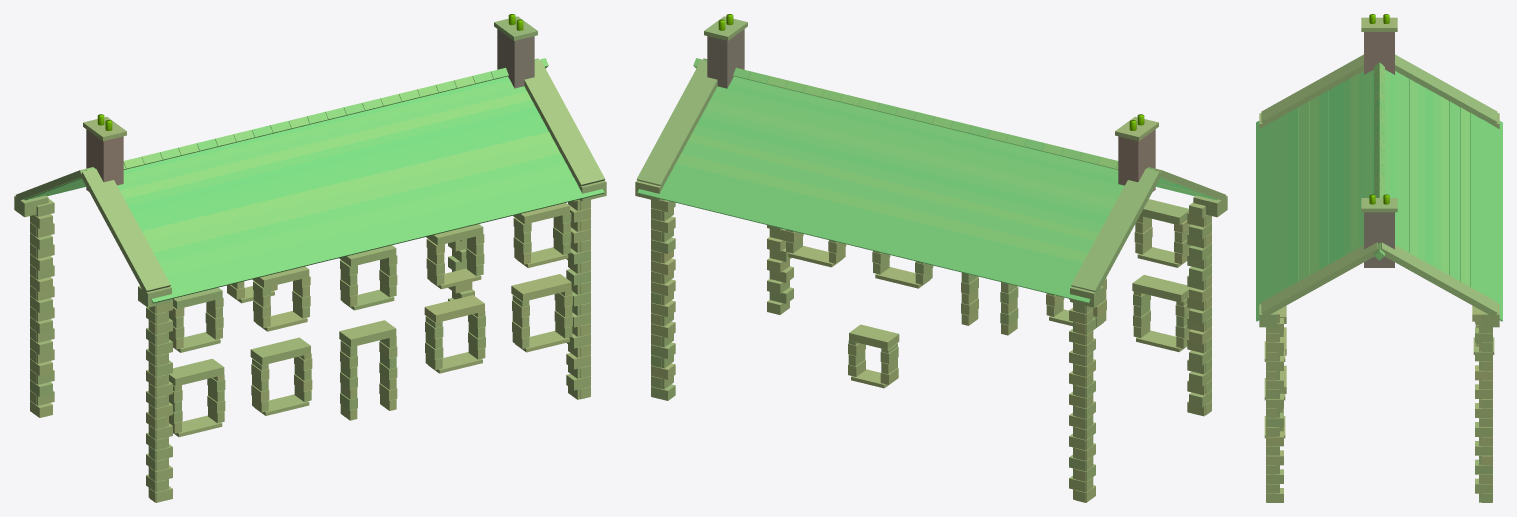
File: SM_Bld_135_Stone.glb
The picture shows the model from 3 angles, left to right: view 1: azimuth 30°, elevation 25°; view 2: azimuth 150°, elevation 25°; view 3: azimuth 270°, elevation 25°; orthographic projection. The views are drawn at different scales.
Visible parts, largest first — view 1: SM_Bld_135_Stone; view 2: SM_Bld_135_Stone; view 3: SM_Bld_135_Stone.
Boxes of the visible parts, x1,y1,x2,y2 form: SM_Bld_135_Stone: (14, 14, 606, 502); SM_Bld_135_Stone: (635, 14, 1227, 502); SM_Bld_135_Stone: (1256, 14, 1502, 502).
Bounding box in the file's own units: 13.9 × 9.59 × 7.11.
